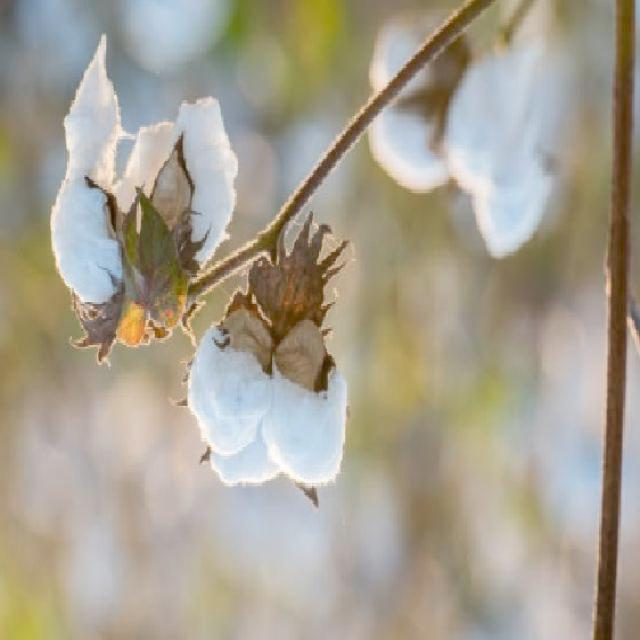Matured Cotton Boll: (59, 62, 234, 346), (182, 242, 354, 491), (362, 28, 552, 248), (370, 16, 438, 93)
